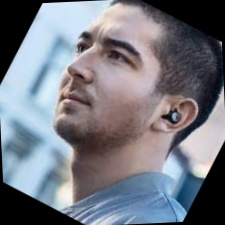earphone: (147, 87, 205, 148)
